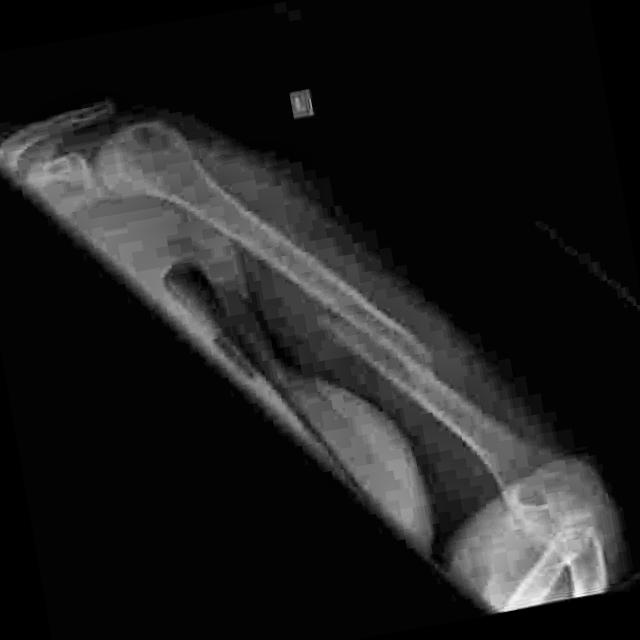humerus: (278, 240, 493, 440)
